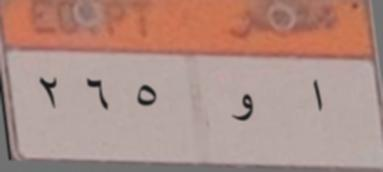2: (34, 74, 67, 118)
5: (128, 74, 163, 118)
6: (82, 74, 112, 118)
alif: (302, 77, 331, 116)
waw: (221, 86, 266, 132)
